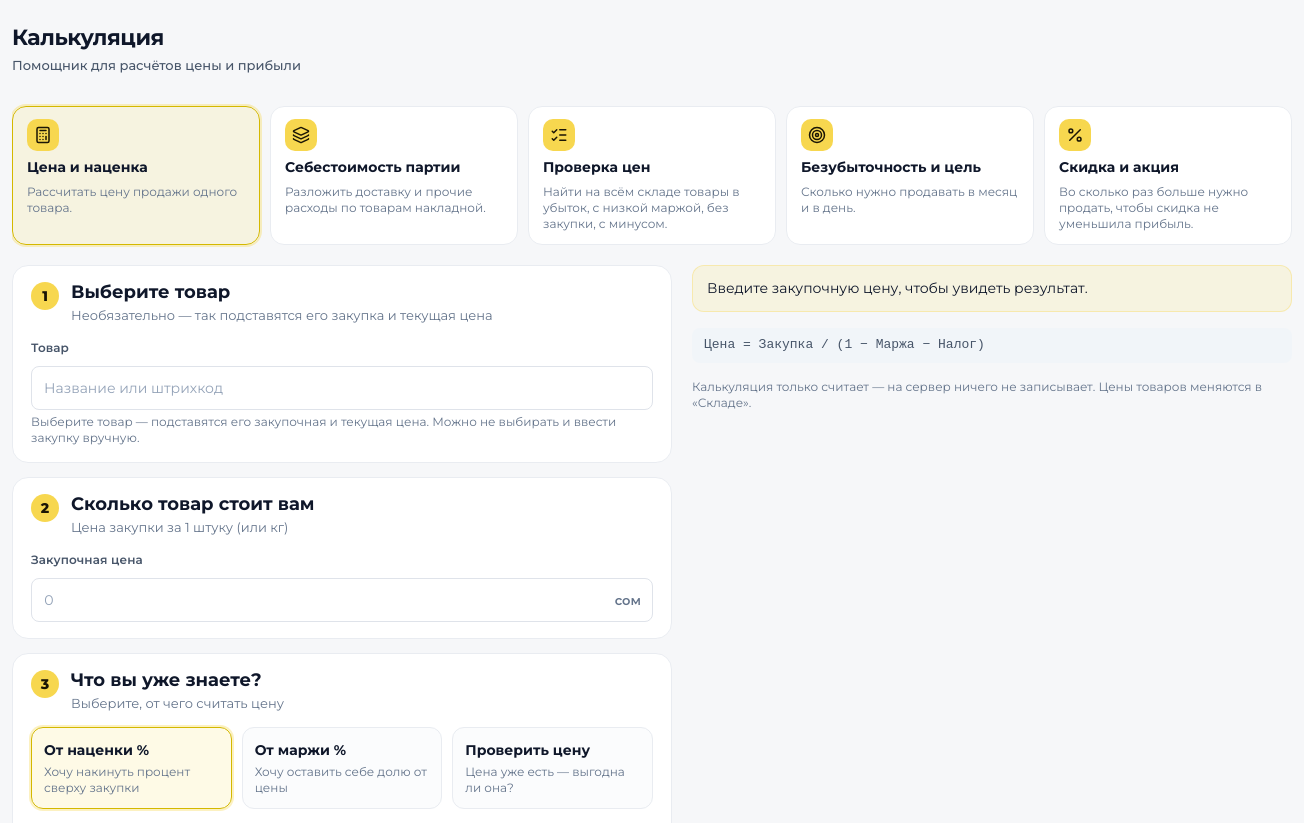
поиск товара › сканер: штрихкод + Enter раньше задержки поиска — товар выбирается сам
The image size is (1304, 823).
Type "4011100091108" into the dropdown labelled "Товар". click: {"x": 342, "y": 388}
box: [31, 366, 653, 410]
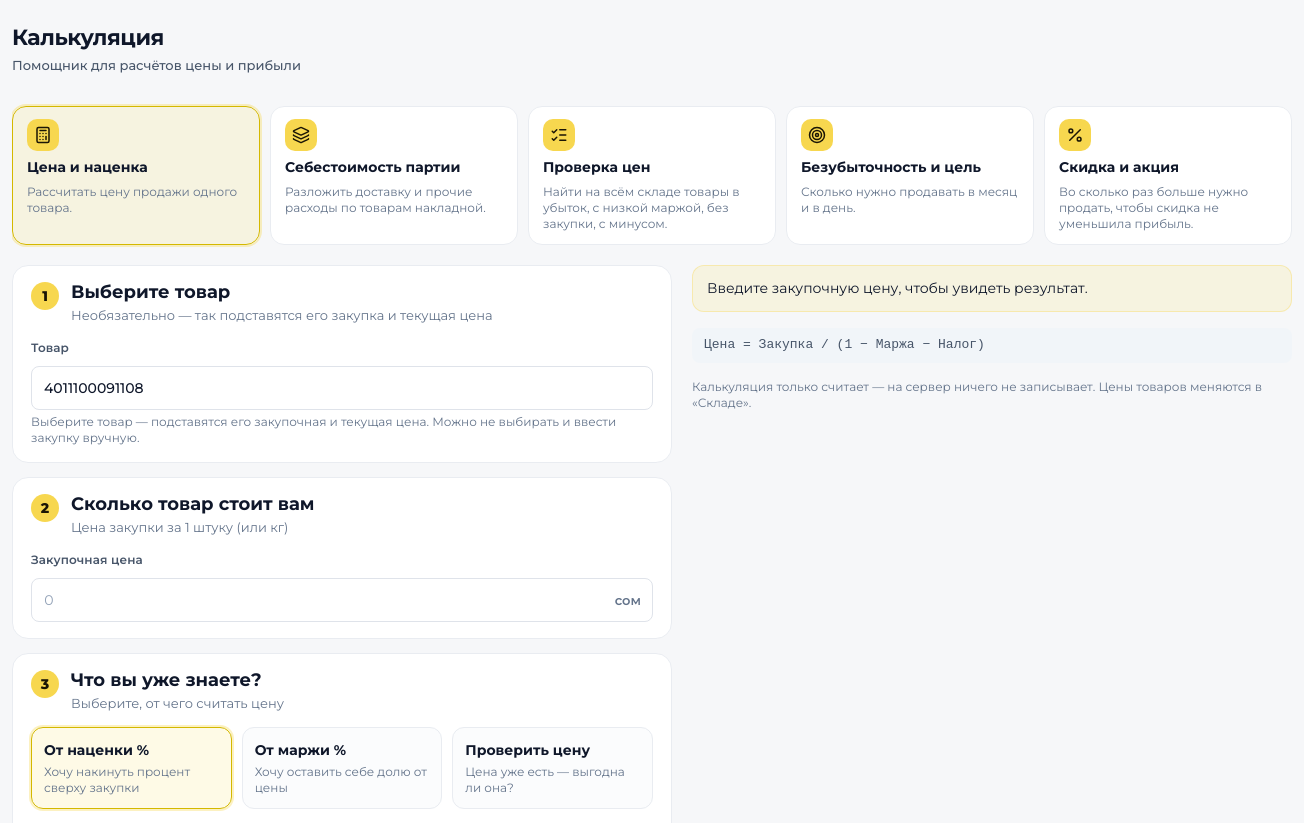
Press Enter in the dropdown labelled "Товар", box [31, 366, 653, 410]
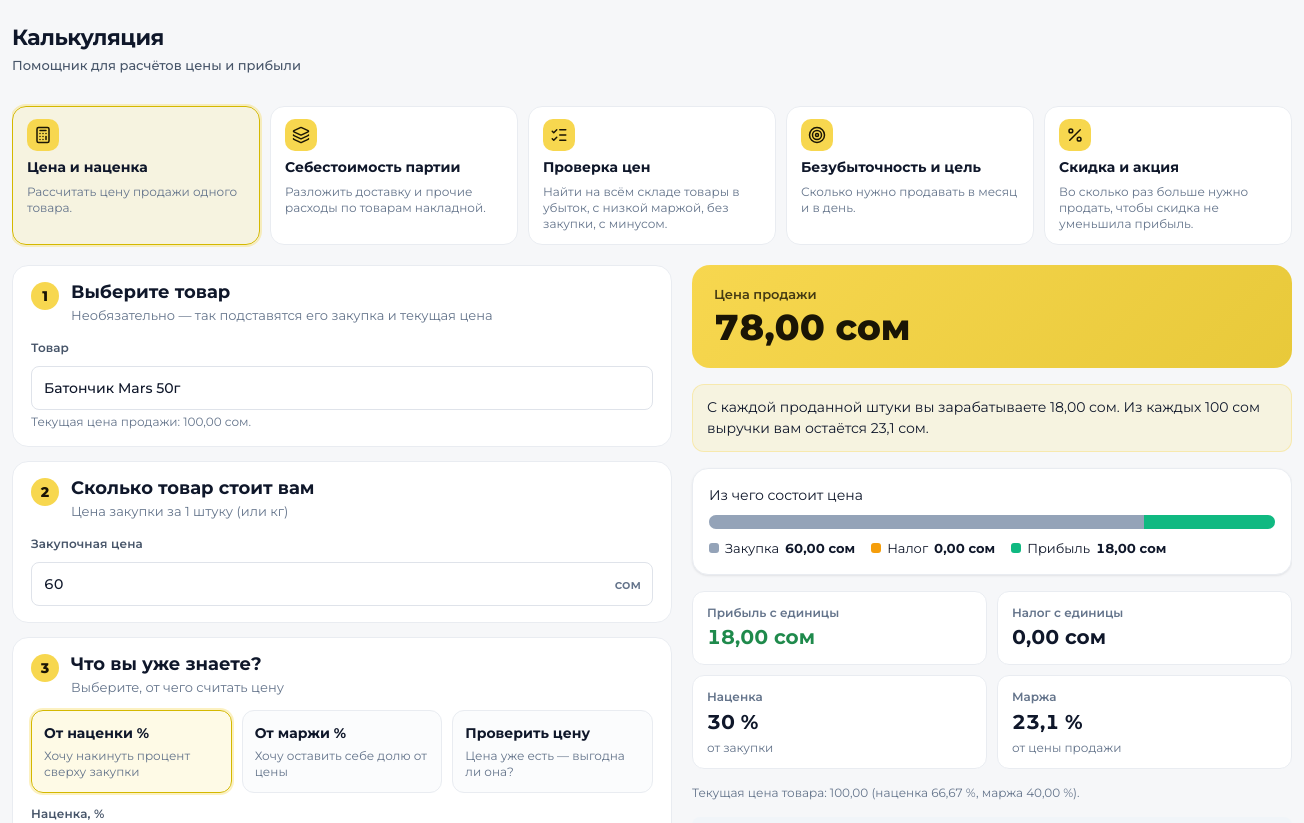
expect the field labelled "Закупочная цена" holds "60": met, box [31, 562, 653, 606]
expect the dropdown labelled "Товар" holds "Батончик Mars 50г": met, box [31, 366, 653, 410]
